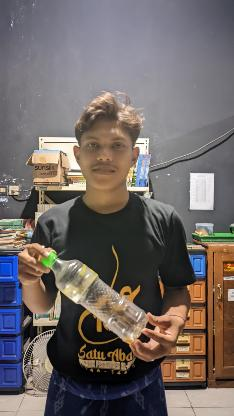Plastic Bottle: (44, 254, 148, 353)
